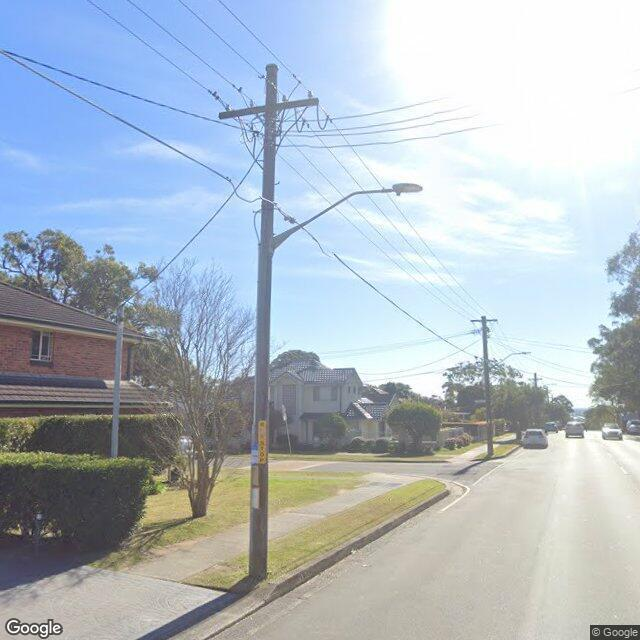crossarm: (216, 97, 321, 121), (470, 318, 498, 323), (528, 377, 542, 381)
steel-pole: (110, 304, 126, 460)
streetlight: (272, 184, 425, 259), (487, 352, 532, 371)
timber-pole: (247, 65, 280, 578), (481, 315, 494, 456), (534, 372, 537, 388)
